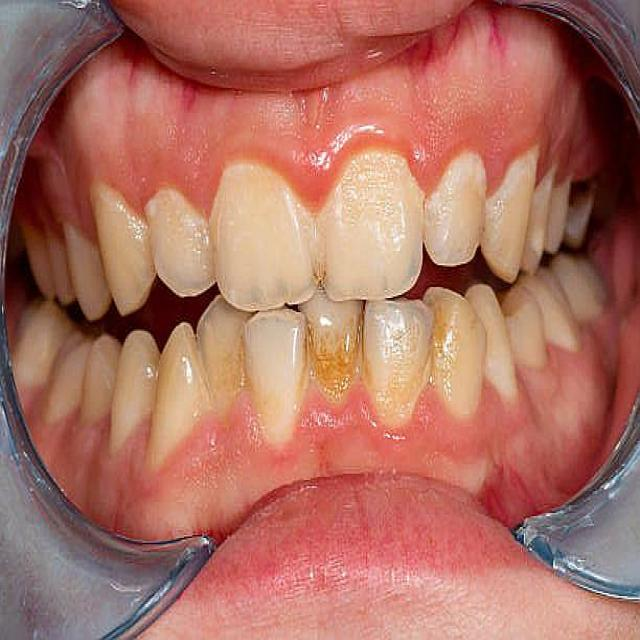caries: (558, 162, 608, 232)
